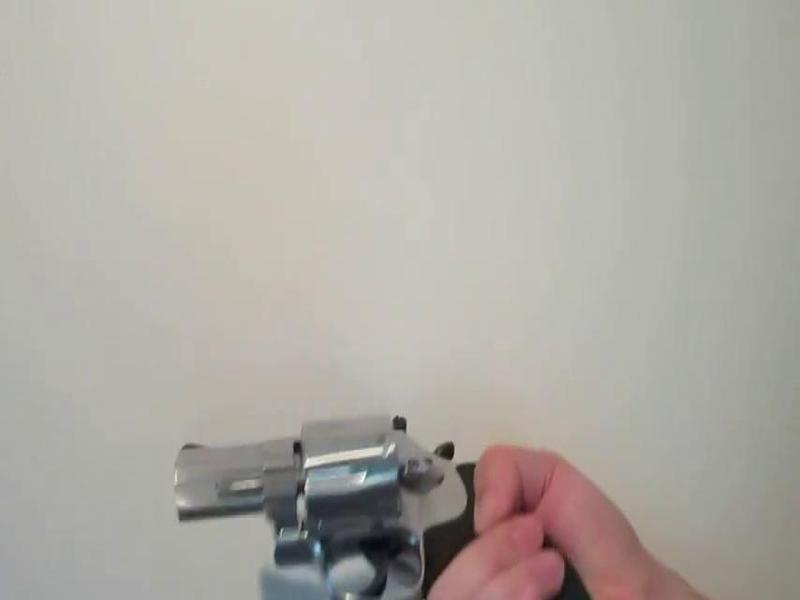Revolver: (161, 388, 637, 600)
